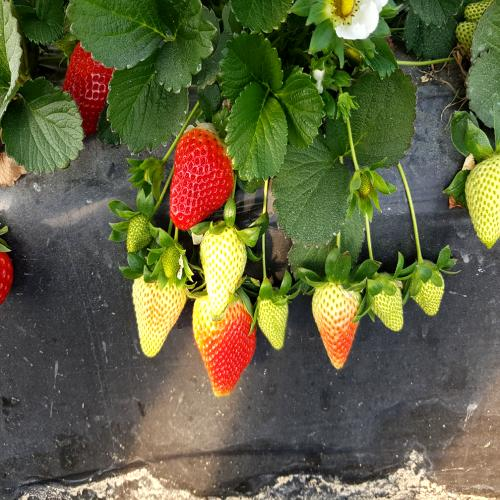partially-ripe: (191, 285, 257, 402), (304, 279, 368, 383)
ripe: (168, 120, 237, 242), (51, 34, 120, 149)
